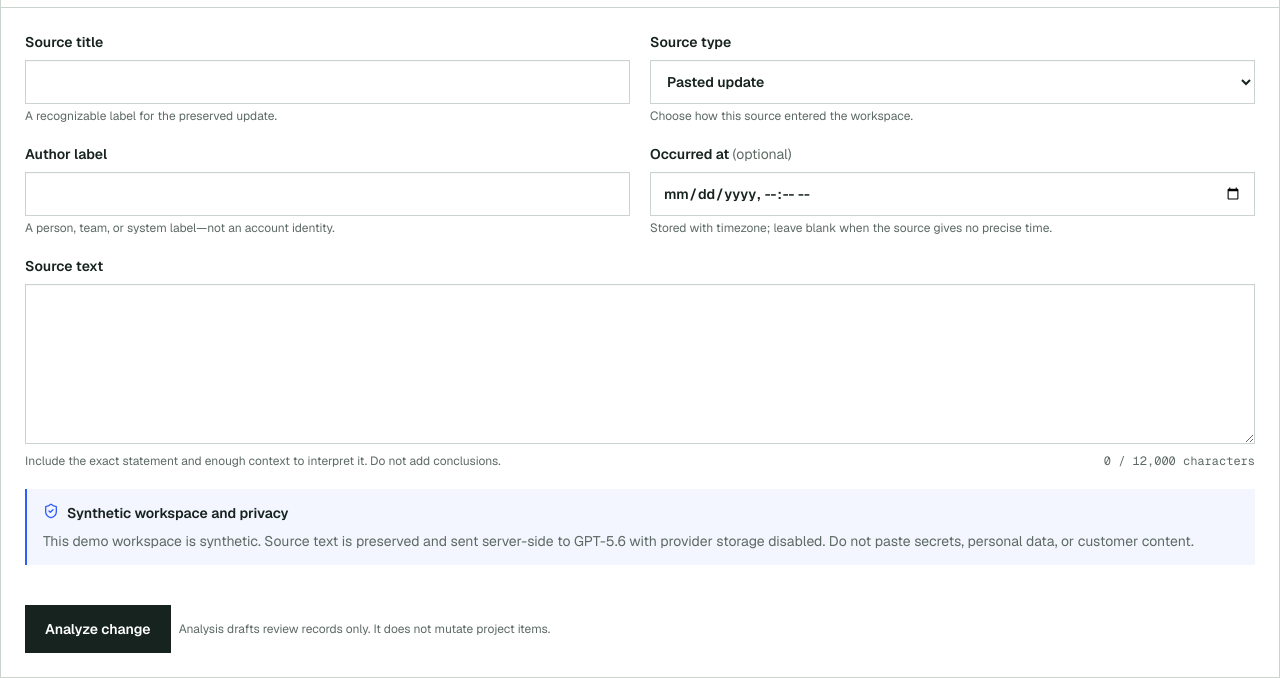
Scenario: SourceUpdateForm › shows useful validation, skips the API, and focuses the first invalid field
(page scrolled)
Step 1. Click the button "Analyze change" → (98, 629), box [25, 605, 171, 653]
(page scrolled)
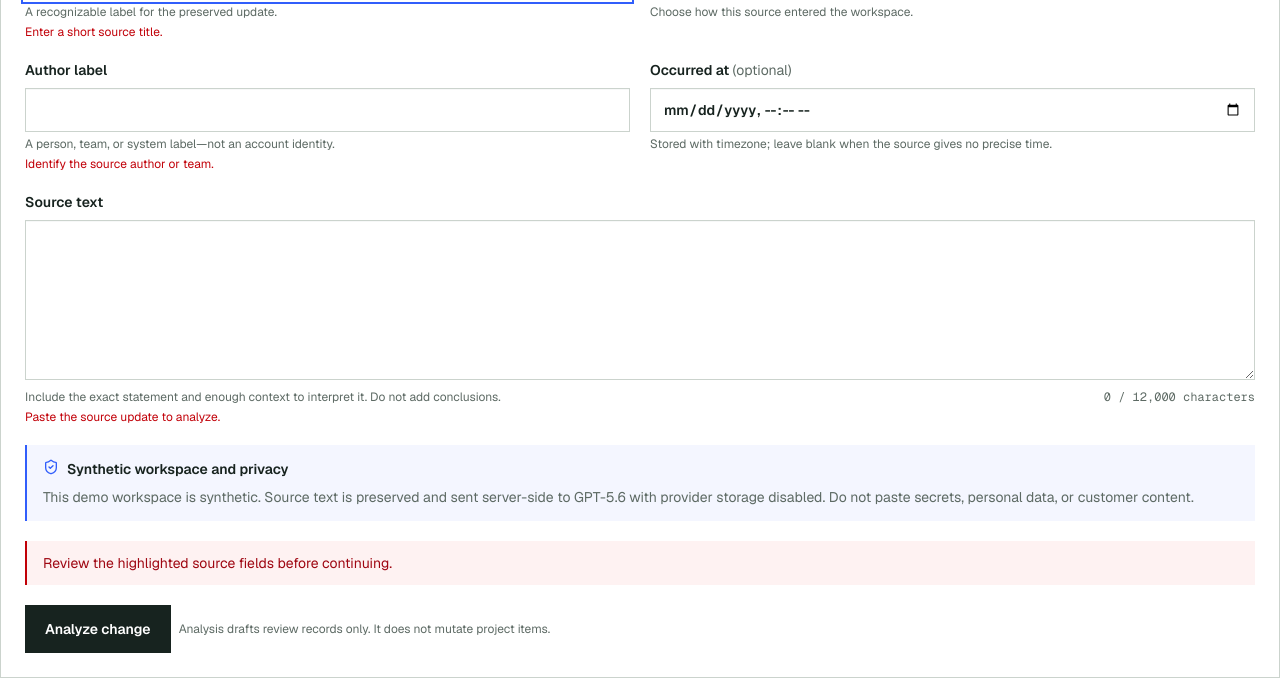
Check: the text "Enter a short source title." is shown, box [25, 24, 162, 40]
Check: the text "Identify the source author or team." is shown, box [25, 156, 214, 172]
Check: the text "Paste the source update to analyze." is shown, box [25, 409, 220, 425]
